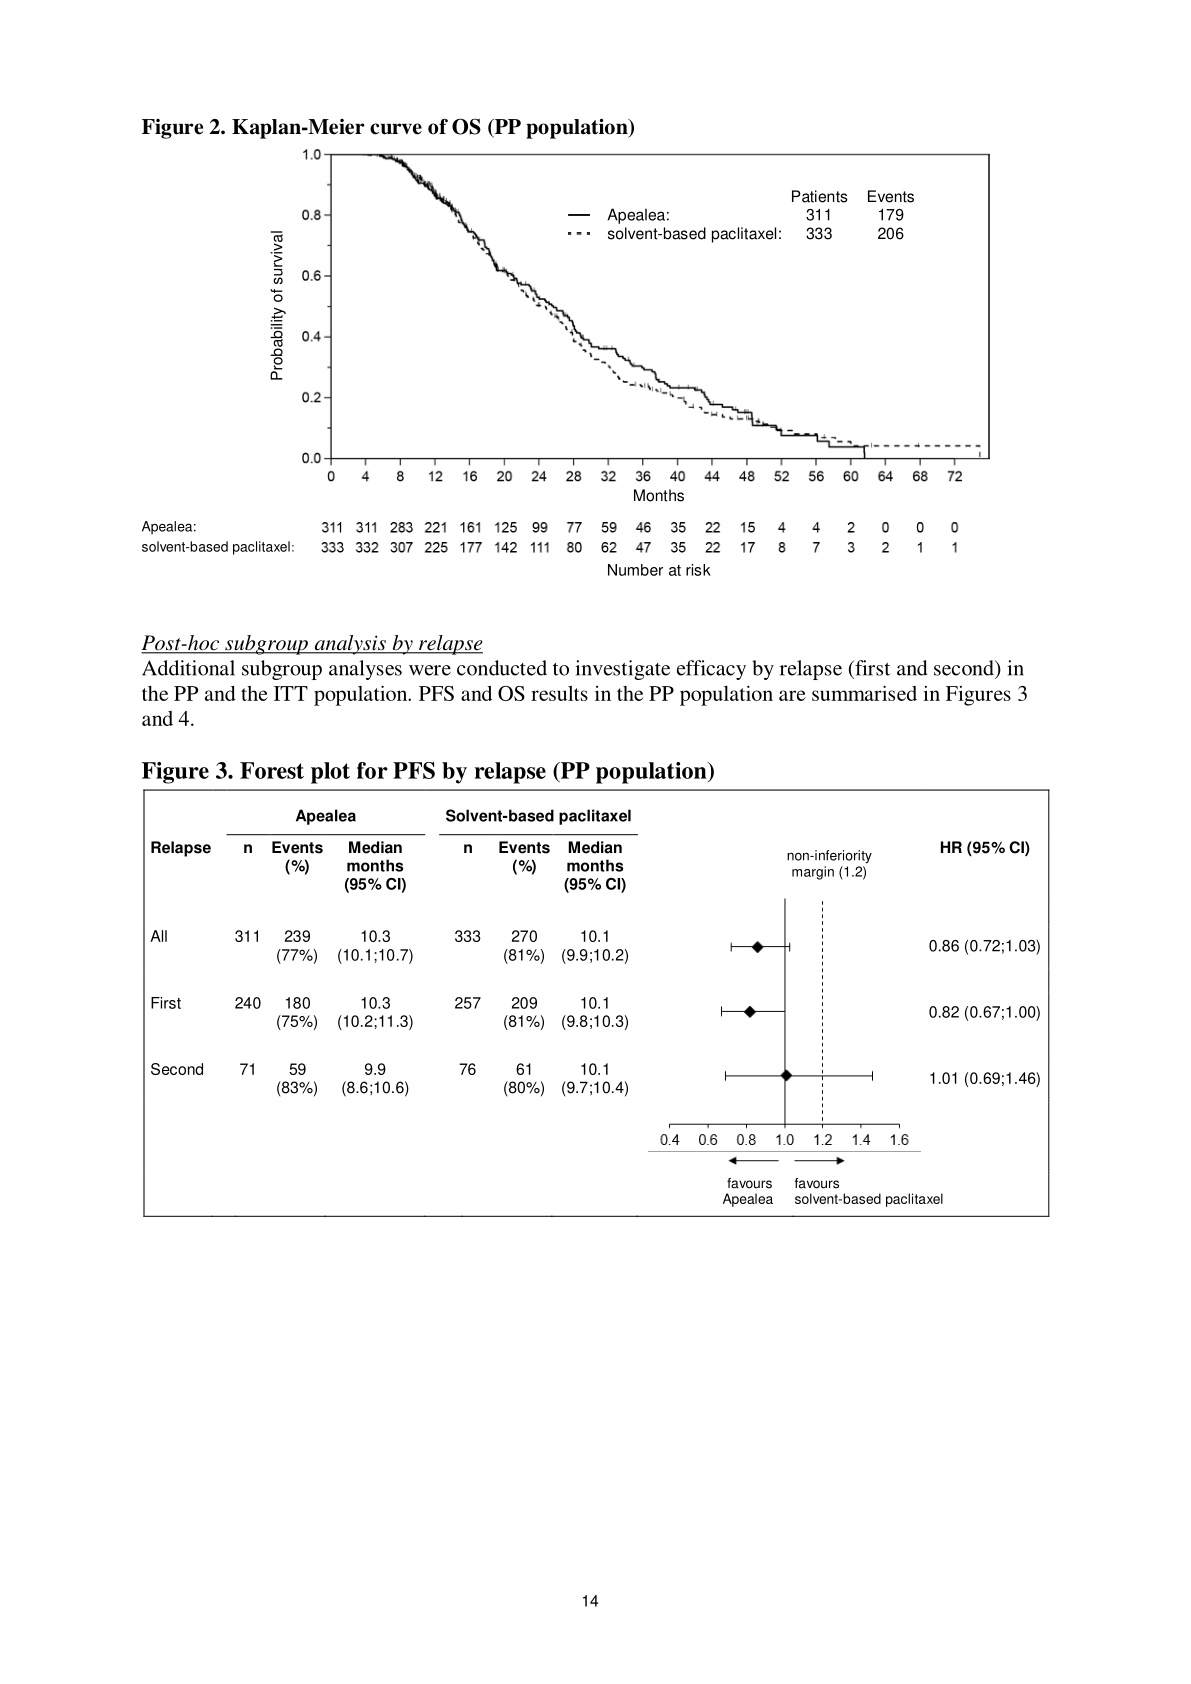nolines: (139, 515, 965, 560)
partial_lined_merged_cells: (148, 801, 641, 1100)
